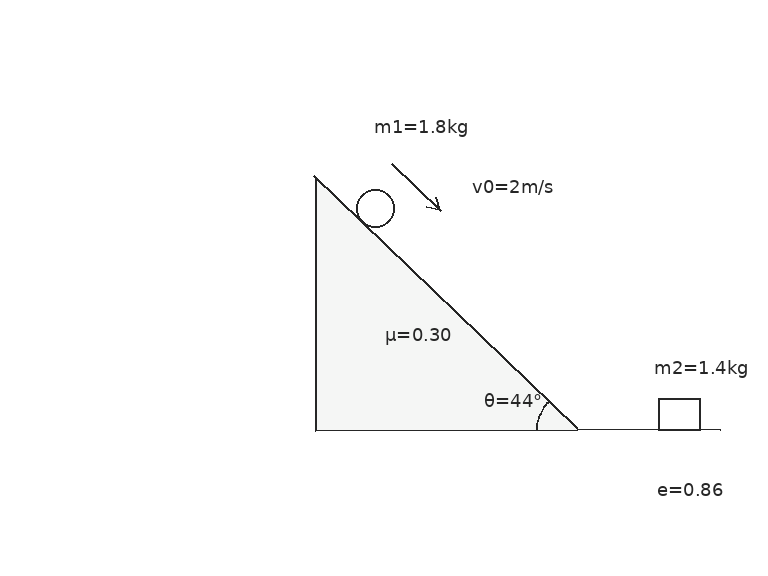ball: (354, 187, 396, 229)
block: (656, 396, 702, 431)
ramp: (314, 175, 579, 431)
